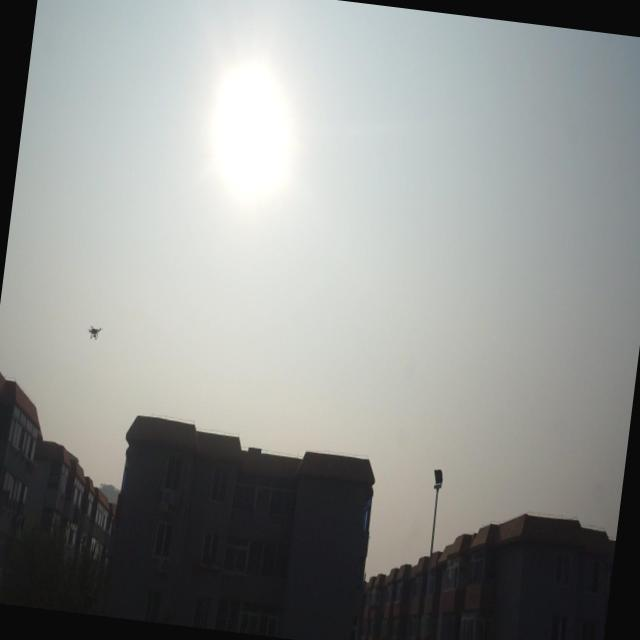drone: (85, 318, 103, 342)
